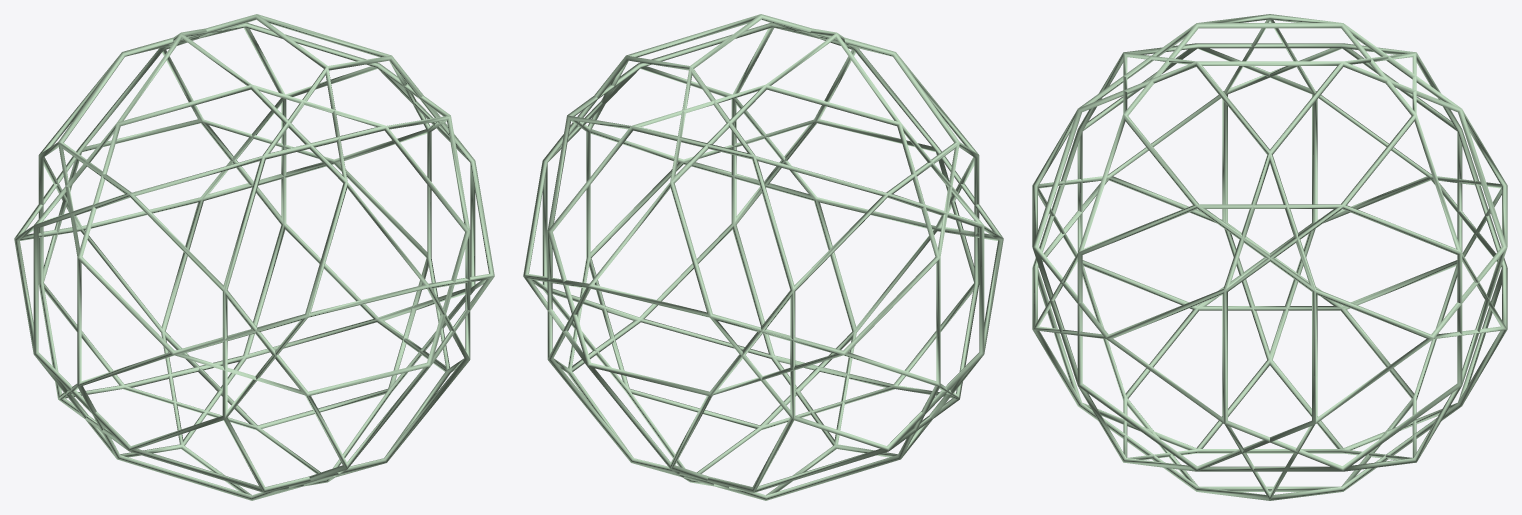
Rendered from SmallIcosicosidodecahedron1.glb.
The picture shows the model from 3 angles, left to right: view 1: azimuth 30°, elevation 25°; view 2: azimuth 150°, elevation 25°; view 3: azimuth 270°, elevation 25°; orthographic projection. The views are drawn at different scales.
Visible parts, largest first — view 1: SmallIcosicosidodecahedron; view 2: SmallIcosicosidodecahedron; view 3: SmallIcosicosidodecahedron.
Part boxes in pixels (x1=…): SmallIcosicosidodecahedron: x1=14, y1=14, x2=494, y2=500; SmallIcosicosidodecahedron: x1=523, y1=14, x2=1003, y2=500; SmallIcosicosidodecahedron: x1=1032, y1=14, x2=1507, y2=500.
Bounding box in the file's own units: 3.27 × 3.27 × 3.27.
